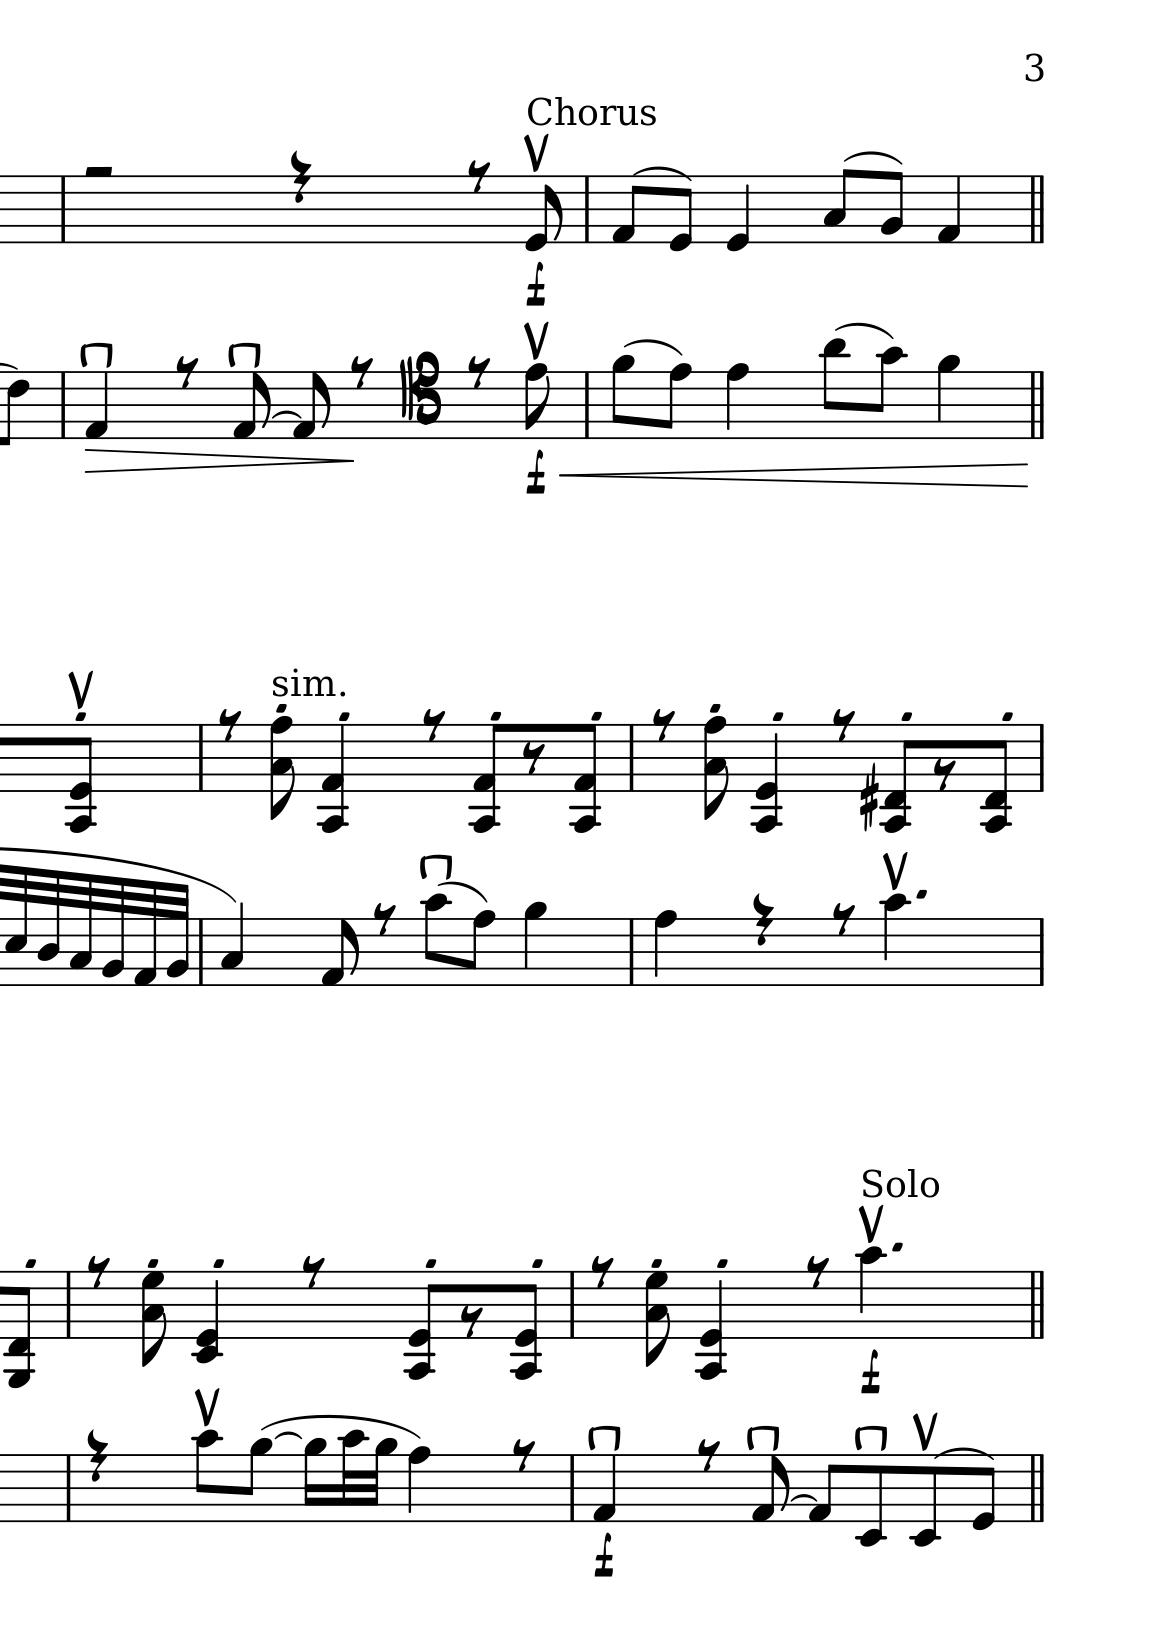16_9: (300, 1437, 327, 1524)
3: (1024, 51, 1045, 83)
32_1: (133, 879, 158, 987)
32_10: (337, 1428, 367, 1524)
32_2: (98, 874, 123, 987), (165, 879, 190, 986)
32_3: (69, 872, 94, 989)
32_4: (36, 867, 60, 988)
32_5: (2, 865, 27, 988)
32_9: (368, 1436, 398, 1528)
4_-2_0: (191, 1269, 226, 1365)
4_-4_0: (749, 723, 785, 835), (694, 1270, 731, 1380)
4_-4_1: (317, 723, 352, 832)
4_0: (724, 174, 751, 254)
4_1: (934, 174, 962, 245), (82, 370, 110, 442), (590, 1454, 617, 1523)
4_10: (880, 891, 911, 989), (857, 1244, 886, 1343)
4_3: (218, 900, 244, 987)
4_8: (651, 908, 678, 988), (723, 361, 749, 441), (404, 1446, 430, 1524)
4_9: (934, 353, 961, 442), (522, 900, 547, 988)
8_-2: (908, 1454, 939, 1549), (855, 1456, 886, 1548)
8_-4_-1: (880, 723, 918, 834), (979, 723, 1014, 834)
8_-4_0: (404, 1270, 443, 1380), (510, 1270, 545, 1380), (65, 723, 97, 832)
8_-4_1: (469, 723, 507, 834), (570, 723, 605, 832)
8_-5_-1: (2, 1269, 37, 1389)
8_0: (524, 174, 562, 253), (666, 178, 693, 254), (970, 1456, 996, 1533)
8_1: (318, 917, 360, 989), (229, 371, 272, 441), (290, 370, 330, 441), (749, 1454, 790, 1523), (608, 176, 643, 245), (805, 1454, 838, 1524)
8_10: (866, 345, 906, 441), (192, 1428, 221, 1523), (421, 892, 448, 987)
8_11: (820, 336, 849, 441)
8_2: (878, 169, 904, 245)
8_3: (822, 167, 854, 245)
8_3_7: (645, 1269, 673, 1371), (138, 1270, 167, 1368)
8_3_8: (702, 717, 731, 822), (269, 715, 295, 821)
8_6: (1, 369, 29, 447)
8_8: (657, 361, 691, 441), (463, 908, 495, 987), (522, 361, 551, 441)
8_9: (239, 1436, 272, 1524), (608, 354, 635, 442)
Crescendo_hairpin: (559, 462, 1029, 491)
Diminuendo_hairpin: (84, 447, 355, 475)
Double_barline: (1024, 371, 1049, 440), (1025, 1453, 1049, 1523), (1025, 176, 1049, 243), (1025, 1271, 1049, 1338)
Down_bow: (224, 339, 263, 370), (418, 852, 455, 884), (587, 1422, 623, 1453), (79, 340, 115, 370), (744, 1423, 783, 1451), (853, 1424, 890, 1452)
Rests2: (79, 160, 117, 183)
Rests4: (287, 150, 312, 206), (751, 892, 775, 948), (85, 1427, 108, 1484)
Rests8: (348, 354, 375, 391), (930, 756, 958, 793), (519, 741, 546, 776), (694, 1438, 722, 1473), (458, 1304, 484, 1340), (372, 901, 396, 938), (465, 160, 491, 194), (217, 707, 243, 741), (830, 707, 857, 741), (465, 355, 490, 391), (832, 901, 857, 937), (804, 1255, 830, 1289), (300, 1254, 325, 1289), (175, 356, 199, 390), (421, 708, 446, 741), (510, 1438, 535, 1472), (651, 707, 674, 741), (86, 1255, 110, 1289), (590, 1255, 613, 1289)
Sharp: (857, 765, 879, 832)
Single_barline: (623, 918, 641, 984), (622, 725, 640, 790), (193, 918, 209, 984), (1034, 918, 1050, 984), (54, 176, 70, 241), (54, 373, 70, 437), (192, 725, 208, 790), (1034, 725, 1049, 791), (60, 1272, 75, 1338), (578, 176, 593, 241), (60, 1456, 75, 1520), (564, 1456, 578, 1520), (578, 373, 593, 436), (564, 1274, 578, 1337)
Slur: (258, 1414, 418, 1442), (621, 336, 683, 356), (835, 320, 895, 340), (440, 880, 485, 903), (632, 163, 693, 179), (842, 150, 901, 166), (931, 1446, 996, 1461), (780, 1494, 819, 1510), (269, 410, 302, 421), (272, 1431, 304, 1442)
Solo: (860, 1164, 939, 1201)
Tensor_Cclef: (396, 349, 441, 441)
Tremolo_bar: (520, 133, 554, 177), (881, 851, 911, 894), (521, 320, 551, 361), (65, 670, 94, 709), (857, 1204, 884, 1242), (194, 1387, 221, 1427), (913, 1409, 938, 1449)
dot: (888, 1240, 906, 1256), (913, 887, 930, 903)
f: (522, 260, 547, 308), (591, 1532, 615, 1580), (522, 450, 546, 497), (858, 1350, 881, 1394)
